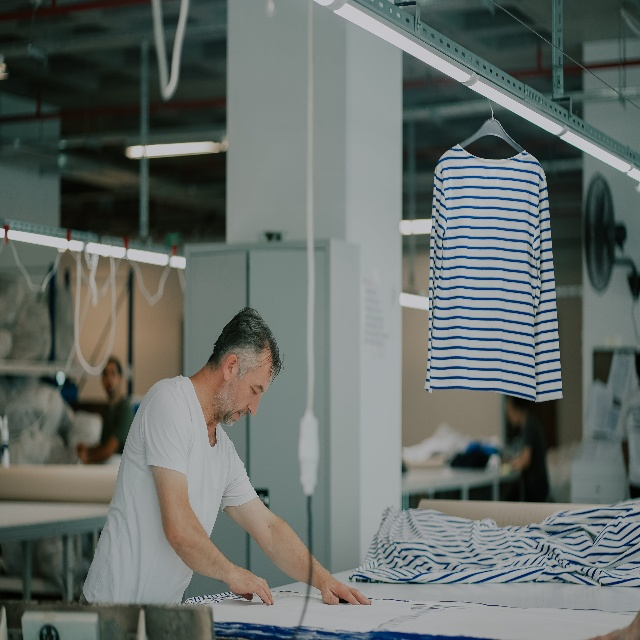Sin_guantes: (229, 561, 275, 606), (319, 571, 373, 607), (76, 440, 88, 465)
